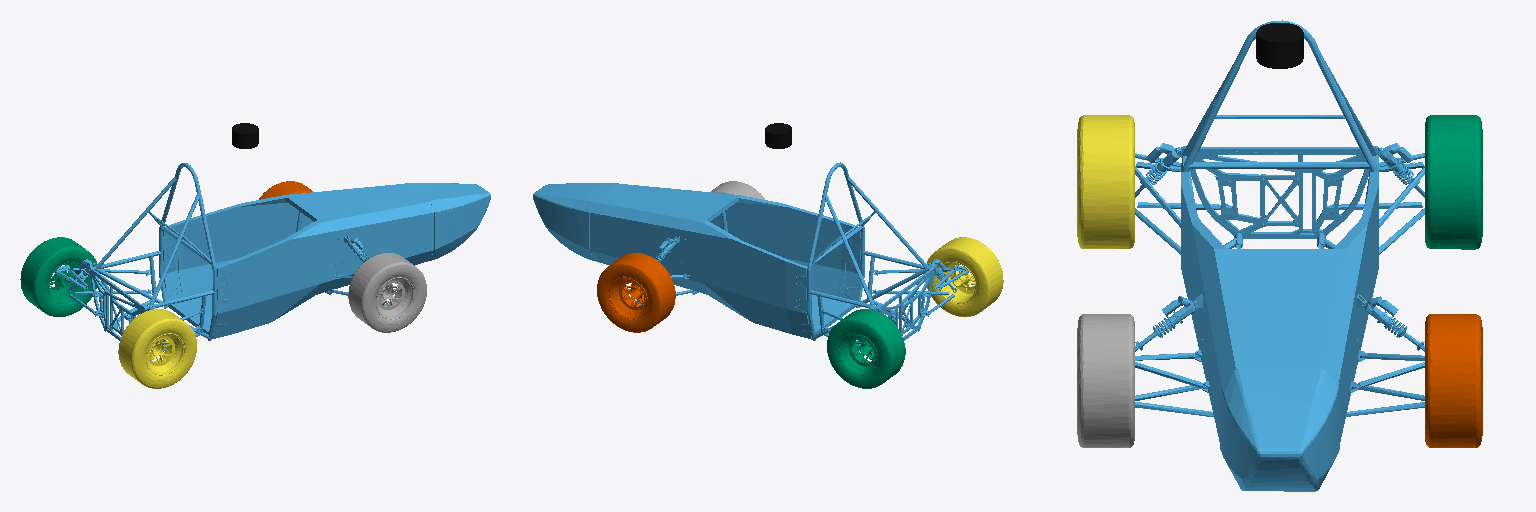
URDF robot description (racecar):
<?xml version="1.0"?>
<robot name="racecar">
  <!-- The base frame is located midway between the rear wheels. -->
  <link name="base_footprint"/>

  <joint name="base_footprint_joint" type="fixed">
    <parent link="base_footprint"/>
    <child link="base_link"/>
    <origin xyz="0 0 0.225" rpy="0 0 0"/>
  </joint>

  <link name="base_link">
    <inertial>
      <origin xyz="1.25 0 0.12" rpy="0 0 0"/>
      <mass value="180.0"/>
      <inertia ixx="22.24" ixy="0" ixz="0" iyy="111.75" iyz="0" izz="129.19"/>
    </inertial>
    <visual>
      <geometry>
        <mesh filename="package://racecar_description/urdf/chassis_lowpoly.stl" scale="1 1 1"/>
      </geometry>
    </visual>
    <collision>
      <origin xyz="1.25 0 0.10" rpy="0 0 0"/>
      <geometry>
        <box size="2.60 0.75 0.30"/>
      </geometry>
    </collision>
  </link>

  <link name="left_rear_wheel_link">
    <inertial>
      <mass value="4.0"/>
      <inertia ixx="0.065" ixy="0" ixz="0" iyy="0.104" iyz="0" izz="0.065"/>
    </inertial>
    <visual>
      <geometry>
        <mesh filename="package://racecar_description/urdf/left_wheel_lowpoly.stl" scale="1 1 1"/>
      </geometry>
    </visual>
    <collision>
      <origin xyz="0 0 0" rpy="1.5708 0 0"/>
      <geometry>
        <cylinder radius="0.225" length="0.18"/>
      </geometry>
    </collision>
  </link>

  <joint name="left_rear_wheel_joint" type="continuous">
    <parent link="base_link"/>
    <child link="left_rear_wheel_link"/>
    <axis xyz="0 1 0"/>
    <origin xyz="0 0.59 0"/>
    <dynamics damping="0.05" friction="0.0"/>
  </joint>

  <link name="right_rear_wheel_link">
    <inertial>
      <mass value="4.0"/>
      <inertia ixx="0.065" ixy="0" ixz="0" iyy="0.104" iyz="0" izz="0.065"/>
    </inertial>
    <visual>
      <geometry>
        <mesh filename="package://racecar_description/urdf/right_wheel_lowpoly.stl" scale="1 1 1"/>
      </geometry>
    </visual>
    <collision>
      <origin xyz="0 0 0" rpy="1.5708 0 0"/>
      <geometry>
        <cylinder radius="0.225" length="0.18"/>
      </geometry>
    </collision>
  </link>

  <joint name="right_rear_wheel_joint" type="continuous">
    <parent link="base_link"/>
    <child link="right_rear_wheel_link"/>
    <axis xyz="0 1 0"/>
    <origin xyz="0 -0.59 0"/>
    <dynamics damping="0.05" friction="0.0"/>
  </joint>

  <link name="left_front_steering_link">
    <inertial>
      <mass value="0.5"/>
      <inertia ixx="0.002" ixy="0" ixz="0" iyy="0.002" iyz="0" izz="0.002"/>
    </inertial>
  </link>

  <joint name="left_front_steering_joint" type="revolute">
    <parent link="base_link"/>
    <child link="left_front_steering_link"/>
    <axis xyz="0 0 1"/>
    <limit lower="-0.52359" upper="0.52359" effort="500" velocity="3.0"/>
    <origin xyz="1.6 0.59 0"/>
    <dynamics damping="0.5" friction="0.1"/>
  </joint>

  <link name="left_front_wheel_link">
    <inertial>
      <mass value="4.0"/>
      <inertia ixx="0.065" ixy="0" ixz="0" iyy="0.104" iyz="0" izz="0.065"/>
    </inertial>
    <visual>
      <geometry>
        <mesh filename="package://racecar_description/urdf/left_wheel_lowpoly.stl" scale="1 1 1"/>
      </geometry>
    </visual>
    <collision>
      <origin xyz="0 0 0" rpy="1.5708 0 0"/>
      <geometry>
        <cylinder radius="0.225" length="0.18"/>
      </geometry>
    </collision>
  </link>

  <joint name="left_front_wheel_joint" type="continuous">
    <parent link="left_front_steering_link"/>
    <child link="left_front_wheel_link"/>
    <axis xyz="0 1 0"/>
    <dynamics damping="0.05" friction="0.0"/>
  </joint>

  <link name="right_front_steering_link">
    <inertial>
      <mass value="0.5"/>
      <inertia ixx="0.002" ixy="0" ixz="0" iyy="0.002" iyz="0" izz="0.002"/>
    </inertial>
  </link>

  <joint name="right_front_steering_joint" type="revolute">
    <parent link="base_link"/>
    <child link="right_front_steering_link"/>
    <axis xyz="0 0 1"/>
    <limit lower="-0.52359" upper="0.52359" effort="500" velocity="3.0"/>
    <origin xyz="1.6 -0.59 0"/>
    <dynamics damping="0.5" friction="0.1"/>
  </joint>

  <link name="right_front_wheel_link">
    <inertial>
      <mass value="4.0"/>
      <inertia ixx="0.065" ixy="0" ixz="0" iyy="0.104" iyz="0" izz="0.065"/>
    </inertial>
    <visual>
      <geometry>
        <mesh filename="package://racecar_description/urdf/right_wheel_lowpoly.stl" scale="1 1 1"/>
      </geometry>
    </visual>
    <collision>
      <origin xyz="0 0 0" rpy="1.5708 0 0"/>
      <geometry>
        <cylinder radius="0.225" length="0.18"/>
      </geometry>
    </collision>
  </link>

  <joint name="right_front_wheel_joint" type="continuous">
    <parent link="right_front_steering_link"/>
    <child link="right_front_wheel_link"/>
    <axis xyz="0 1 0"/>
    <dynamics damping="0.05" friction="0.0"/>
  </joint>

  <link name="lidar_link">
    <inertial>
      <mass value="1.0"/>
      <inertia ixx="0.0024" ixy="0" ixz="0" iyy="0.0024" iyz="0" izz="0.0032"/>
    </inertial>
    <visual>
      <geometry>
        <cylinder radius="0.08" length="0.10"/>
      </geometry>
      <material name="lidar_black">
        <color rgba="0.1 0.1 0.1 1"/>
      </material>
    </visual>
    <collision>
      <geometry>
        <cylinder radius="0.08" length="0.10"/>
      </geometry>
    </collision>
  </link>

  <joint name="lidar_fixed_joint" type="fixed">
    <parent link="base_link"/>
    <child link="lidar_link"/>
    <origin xyz="0.95 0 0.955" rpy="0 0 0"/>
  </joint>

  <gazebo reference="lidar_link">
    <sensor name="top_lidar" type="gpu_lidar">
      <topic>/lidar</topic>
      <gz_frame_id>lidar_link</gz_frame_id>
      <update_rate>10</update_rate>
      <always_on>true</always_on>
      <visualize>true</visualize>
      <lidar>
        <scan>
          <horizontal>
            <samples>720</samples>
            <resolution>1</resolution>
            <min_angle>-3.14159265</min_angle>
            <max_angle>3.14159265</max_angle>
          </horizontal>
          <vertical>
            <samples>128</samples>
            <resolution>1</resolution>
            <min_angle>-0.436332</min_angle>
            <max_angle>0.261799</max_angle>
          </vertical>
        </scan>
        <range>
          <min>0.3</min>
          <max>50.0</max>
          <resolution>0.02</resolution>
        </range>
      </lidar>
    </sensor>
  </gazebo>

  <gazebo>
    <plugin filename="gz-sim-ackermann-steering-system" name="gz::sim::systems::AckermannSteering">
      <left_joint>left_front_wheel_joint</left_joint>
      <left_joint>left_rear_wheel_joint</left_joint>
      <right_joint>right_front_wheel_joint</right_joint>
      <right_joint>right_rear_wheel_joint</right_joint>
      <left_steering_joint>left_front_steering_joint</left_steering_joint>
      <right_steering_joint>right_front_steering_joint</right_steering_joint>
      <wheel_base>1.60</wheel_base>
      <wheel_separation>1.18</wheel_separation>
      <kingpin_width>1.18</kingpin_width>
      <wheel_radius>0.225</wheel_radius>
      <steering_limit>0.52359</steering_limit>
      <steer_p_gain>5.0</steer_p_gain>
      <min_velocity>-5.0</min_velocity>
      <max_velocity>5.0</max_velocity>
      <min_acceleration>-2.0</min_acceleration>
      <max_acceleration>2.0</max_acceleration>
      <min_jerk>-10.0</min_jerk>
      <max_jerk>10.0</max_jerk>
      <topic>/model/racecar/cmd_vel</topic>
      <odom_topic>/model/racecar/odometry</odom_topic>
      <tf_topic>/model/racecar/tf</tf_topic>
      <frame_id>odom</frame_id>
      <child_frame_id>base_footprint</child_frame_id>
      <odom_publish_frequency>50</odom_publish_frequency>
    </plugin>

    <plugin filename="gz-sim-joint-state-publisher-system" name="gz::sim::systems::JointStatePublisher">
      <topic>/model/racecar/joint_states</topic>
      <joint_name>left_front_steering_joint</joint_name>
      <joint_name>right_front_steering_joint</joint_name>
      <joint_name>left_front_wheel_joint</joint_name>
      <joint_name>right_front_wheel_joint</joint_name>
      <joint_name>left_rear_wheel_joint</joint_name>
      <joint_name>right_rear_wheel_joint</joint_name>
    </plugin>
  </gazebo>
</robot>

--- What the picture shows (computed from the rendered views, not written in the file) ---
3 views of the same robot in one strip: view 1: azimuth 30°, elevation 25°; view 2: azimuth 150°, elevation 25°; view 3: azimuth 270°, elevation 25° (orthographic).
Model racecar with 9 links and 8 joints (2 revolute, 4 continuous, 2 fixed), rooted at base_footprint, posed every joint at zero.
Visible links, largest first — view 1: base_link, right_front_wheel_link, right_rear_wheel_link, left_rear_wheel_link, lidar_link; view 2: base_link, left_front_wheel_link, left_rear_wheel_link, right_rear_wheel_link, lidar_link; view 3: base_link, left_rear_wheel_link, right_rear_wheel_link, left_front_wheel_link, right_front_wheel_link, lidar_link.
Link boxes in pixels (x1,y1,x2,y2): base_link: (55,163,490,351); right_front_wheel_link: (348,253,426,332); right_rear_wheel_link: (118,309,196,388); left_rear_wheel_link: (20,237,96,316); lidar_link: (232,123,258,148); base_link: (533,162,968,351); left_front_wheel_link: (597,253,675,332); left_rear_wheel_link: (827,309,905,388); right_rear_wheel_link: (925,237,1003,316); lidar_link: (765,123,791,148); base_link: (1135,20,1424,491); left_rear_wheel_link: (1425,115,1482,249); right_rear_wheel_link: (1077,115,1134,248); left_front_wheel_link: (1425,314,1482,447); right_front_wheel_link: (1077,314,1134,447); lidar_link: (1256,23,1303,68).
Bounding box of the posed robot: 2.85 × 1.38 × 1.23 m (x, y, z).
5 mesh visuals loaded from 3 distinct referenced files (3 binary STL).
